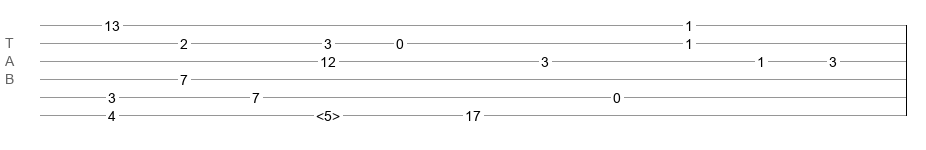0: (396, 36, 404, 46), (613, 90, 621, 100)
1: (685, 36, 693, 46), (685, 18, 693, 28), (757, 54, 765, 64)
12: (320, 54, 336, 64)
13: (104, 18, 120, 28)
17: (465, 108, 481, 118)
2: (180, 36, 188, 46)
3: (108, 90, 116, 100), (324, 36, 332, 46), (541, 54, 549, 64), (829, 54, 837, 64)
4: (108, 108, 116, 118)
7: (180, 72, 188, 82), (252, 90, 260, 100)
harmonic: (316, 108, 340, 118)
